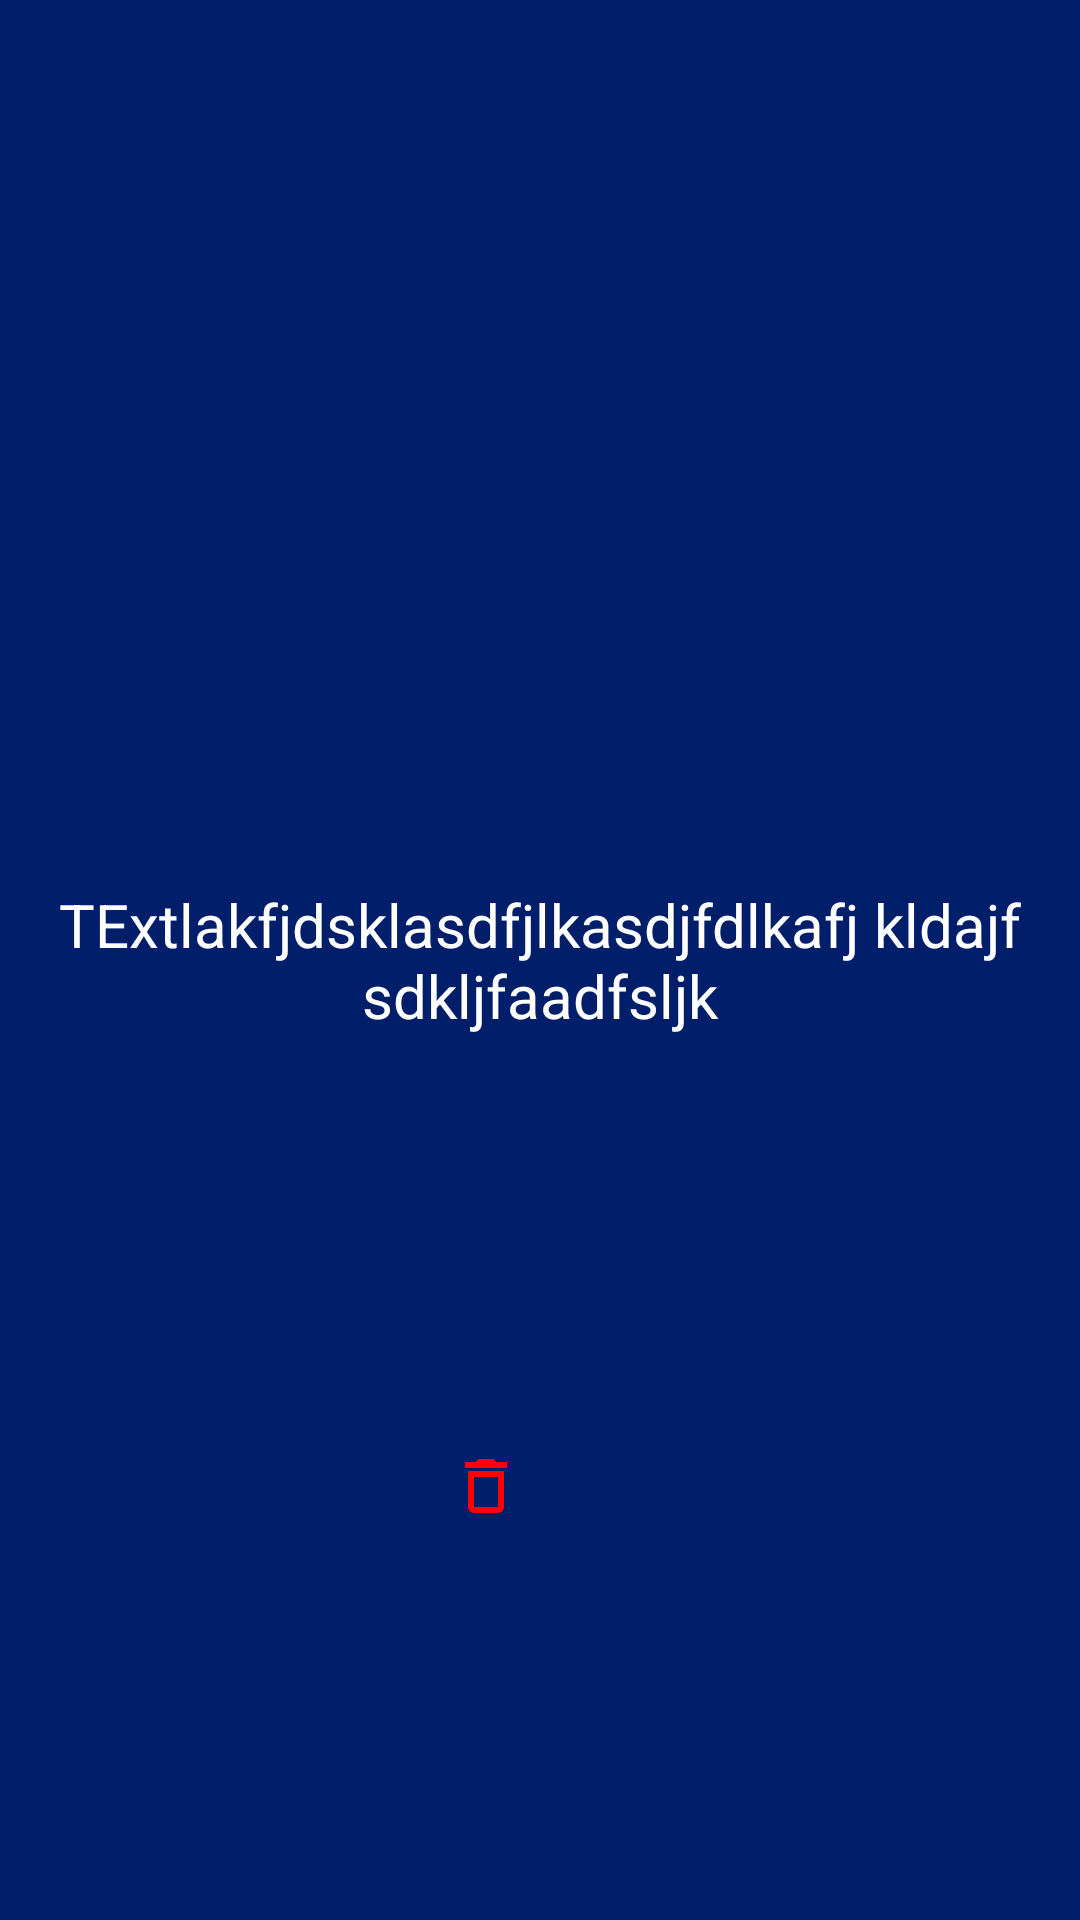

Icons on this 1080×1920 Android screen, each with the point to tap as (x,y):
delete: (486,1486)
